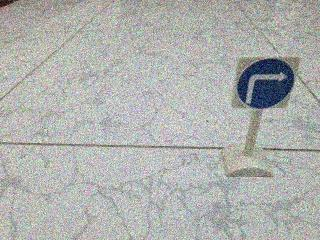right: (221, 49, 308, 122)
